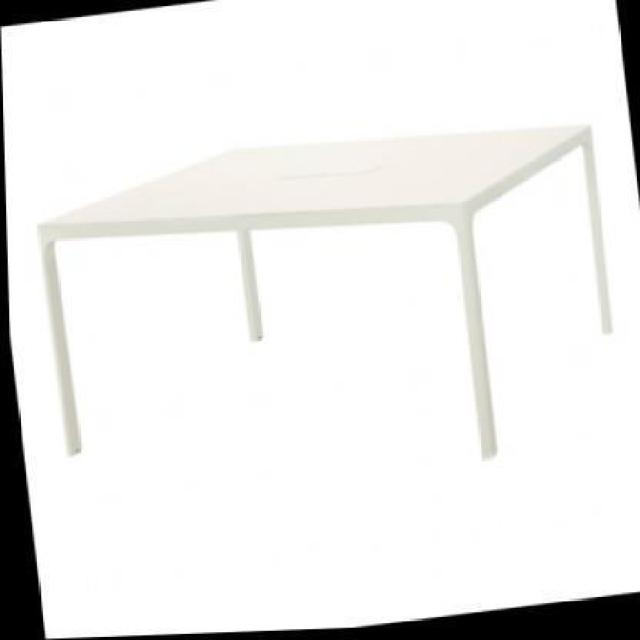tables: (35, 122, 614, 460)
